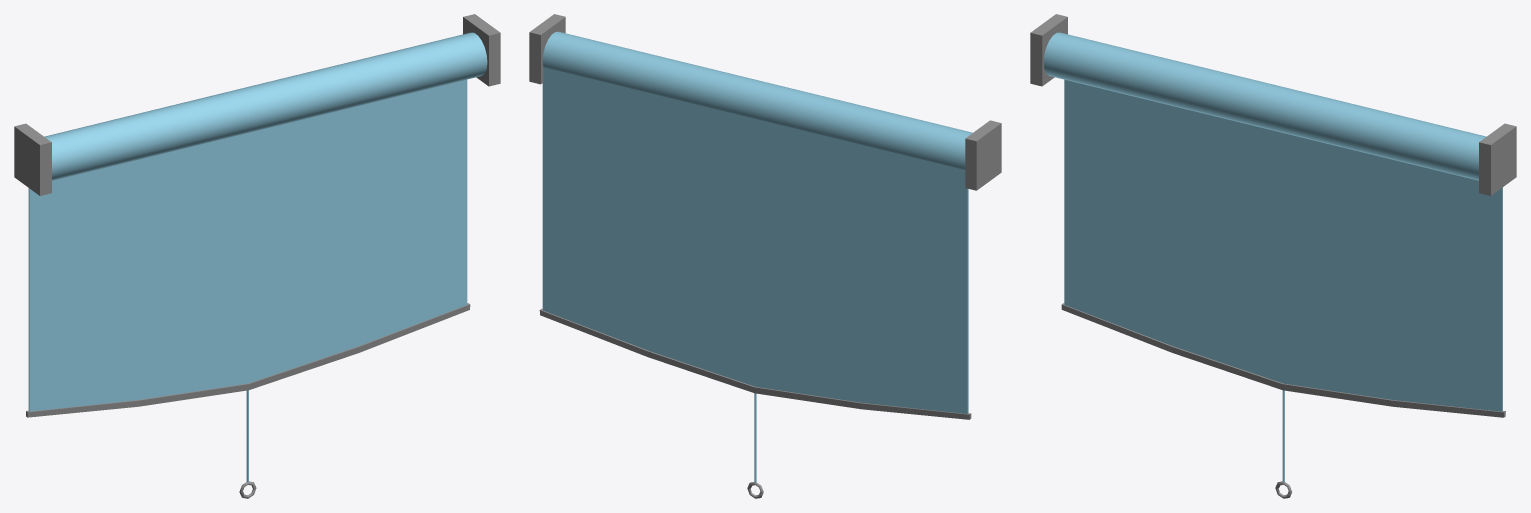
Rendered from PROPS_sunblind_01a.FBX.
3 renders of one model, left to right at view 1: azimuth 30°, elevation 25°; view 2: azimuth 150°, elevation 25°; view 3: azimuth 330°, elevation 25°, orthographic. The views are drawn at different scales.
Parts seen in each view (by area): view 1: PROPS_sunblind_01a; view 2: PROPS_sunblind_01a; view 3: PROPS_sunblind_01a.
Boxes of the visible parts, box(x1,y1,x2,y2) form: PROPS_sunblind_01a: box(14, 14, 500, 498); PROPS_sunblind_01a: box(529, 14, 1001, 498); PROPS_sunblind_01a: box(1030, 14, 1516, 498).
Bounding box in the file's own units: 160 × 141 × 15.42.
